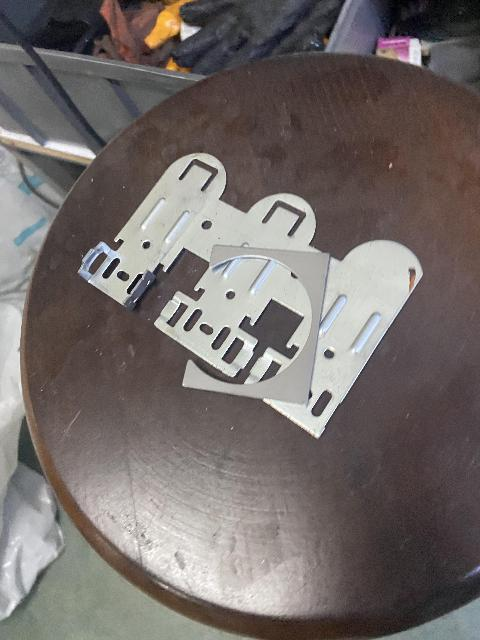Metal: (76, 150, 426, 440)
